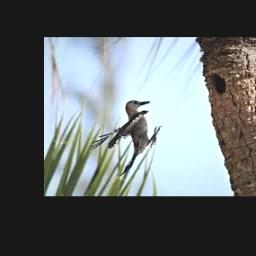Woodpecker: (90, 101, 162, 176)
